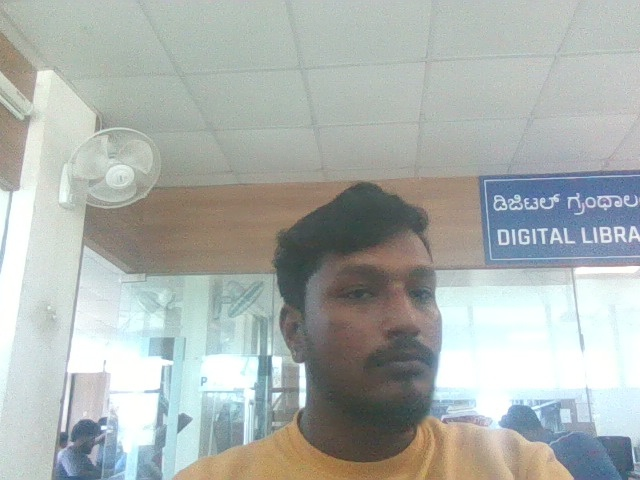real: (280, 166, 466, 429)
